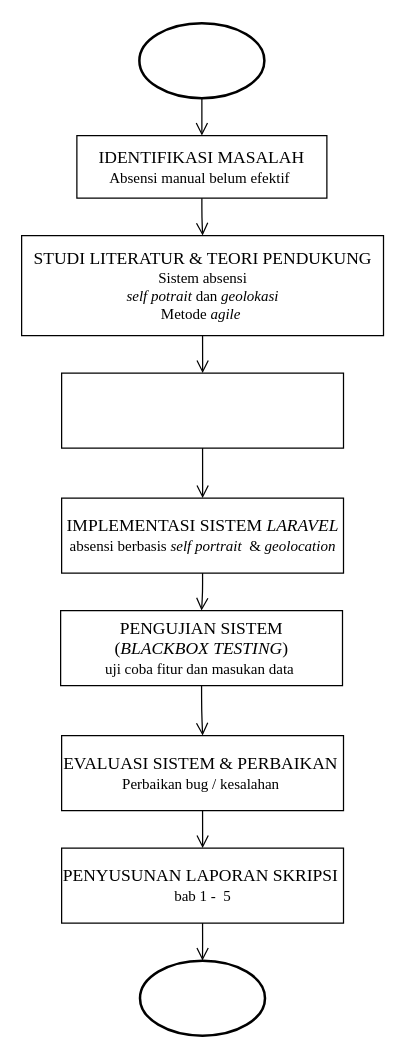
This 406x1058 diagram has some shape labels left out. Each missing label, with the centre of its shape:
"MULAI PENELITIAN" belongs at pixel 201 60.
"PERANCANGAN SISTEM DFD , ERD , FLOWCHART , UI DESIGN" belongs at pixel 202 410.
"SELESAI PENELITIAN" belongs at pixel 202 997.
